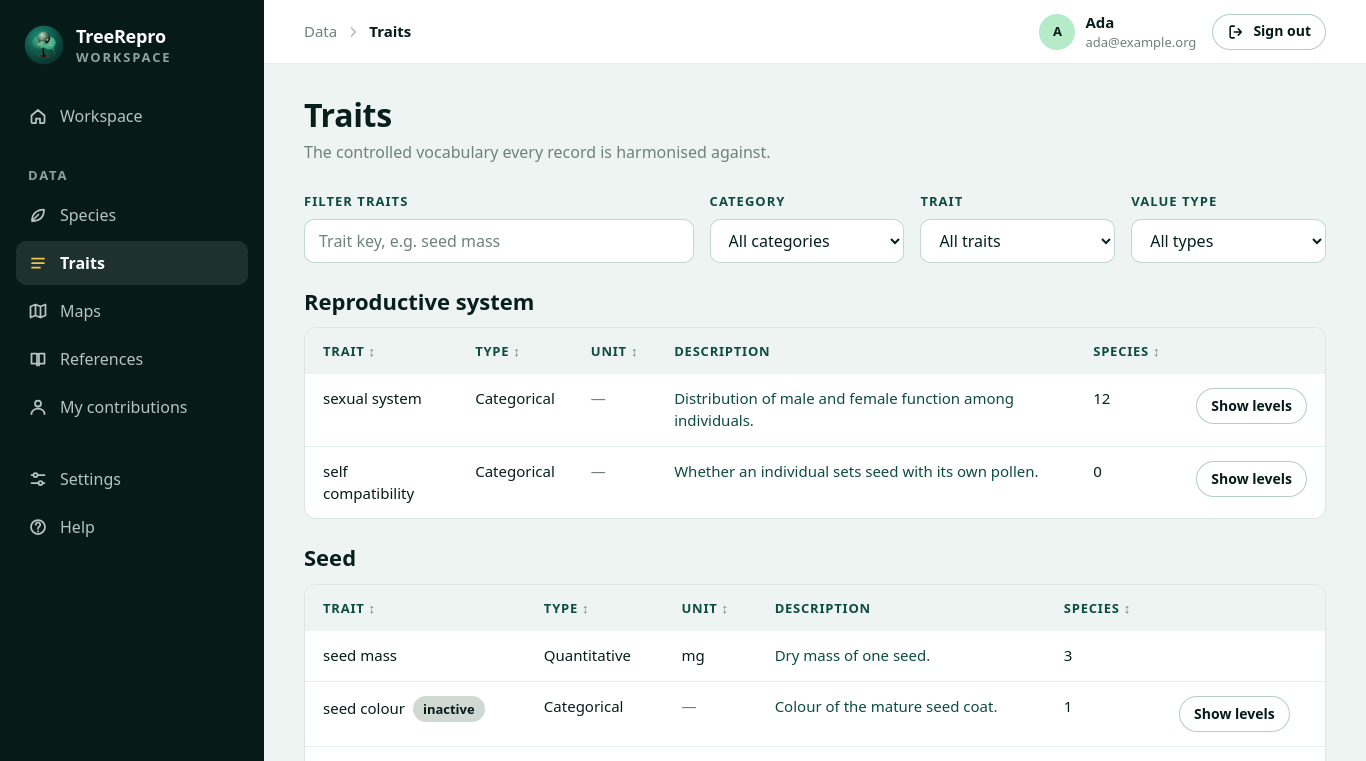
RFC-62 R5 TraitsPage filters › picks a trait with no category chosen; its category then shows (issue #313)
The image size is (1366, 761).
Check: the heading "Traits" is shown, box [304, 93, 392, 136]
Select "seed mass" in the dropdown labelled "Trait" at (1018, 241), box [920, 219, 1115, 263]
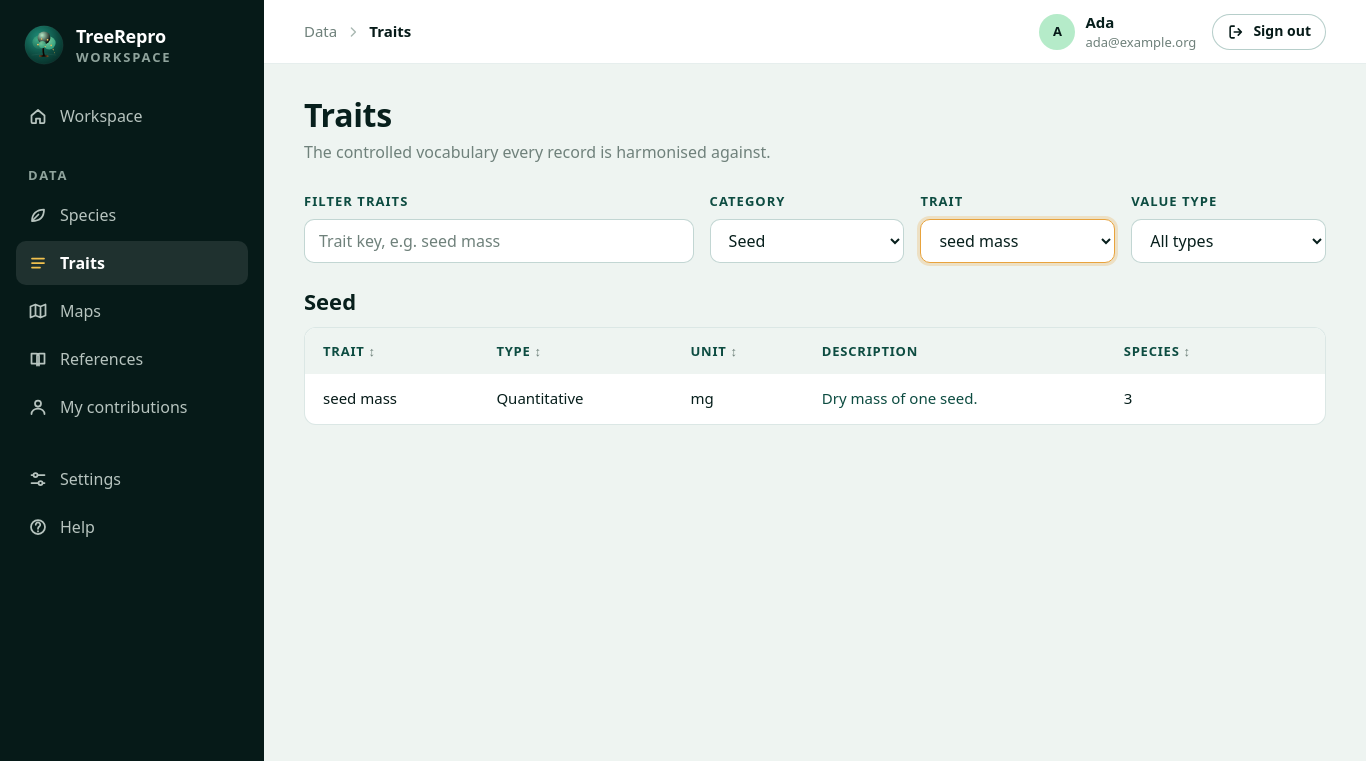
Check: the dropdown labelled "Category" shows "Seed", box [710, 219, 904, 263]
